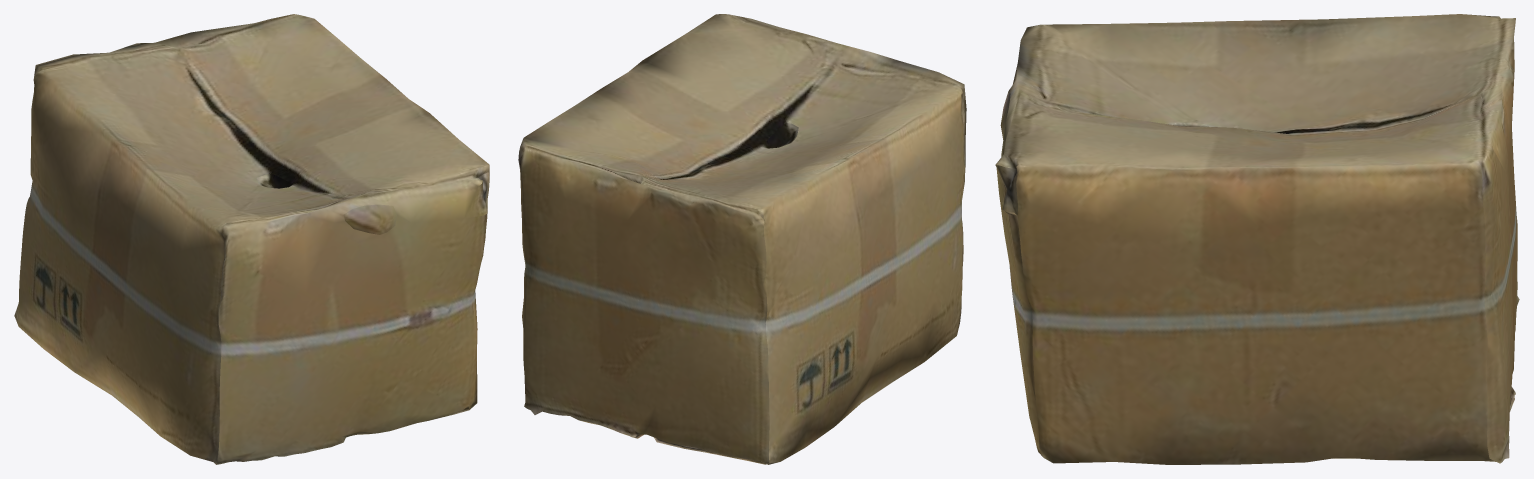
3 views of the same model, side by side, from view 1: azimuth 30°, elevation 25°; view 2: azimuth 150°, elevation 25°; view 3: azimuth 270°, elevation 25° (orthographic). The views are drawn at different scales.
Bounding box in the file's own units: 0.3875 × 0.339 × 0.515.
1 material, 1 textured.
